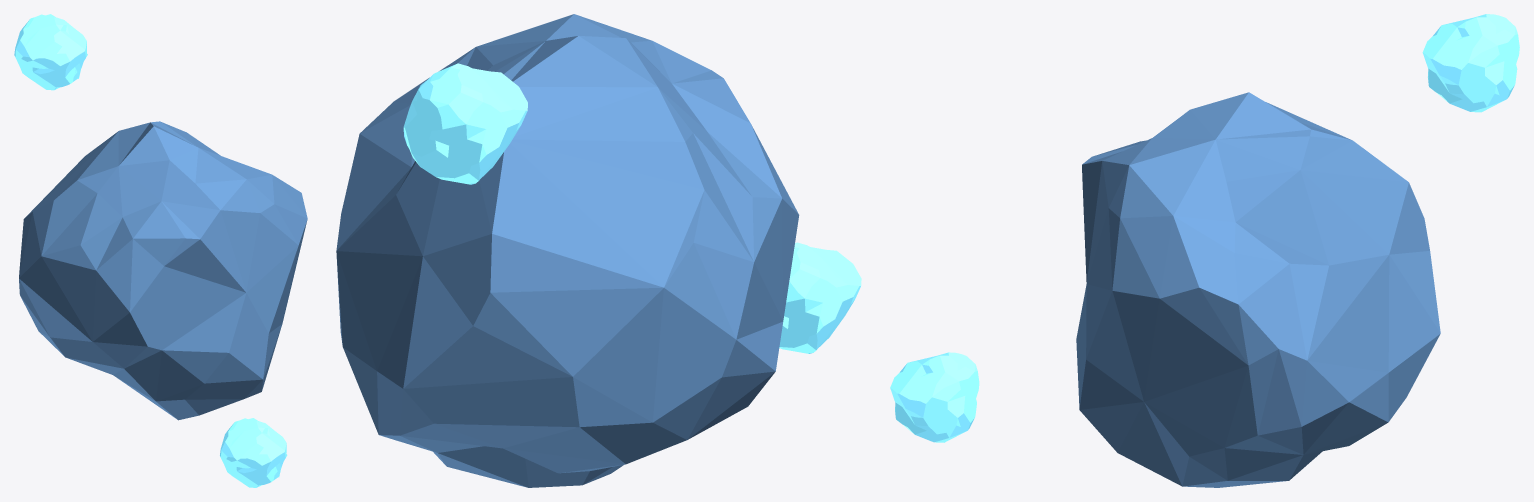
File: planet_2(pivot_for_animation).fbx
The picture shows the model from 3 angles, left to right: view 1: azimuth 30°, elevation 25°; view 2: azimuth 150°, elevation 25°; view 3: azimuth 270°, elevation 25°; orthographic projection. The views are drawn at different scales.
Parts seen in each view (by area): view 1: planet2, planet2_moon_2, planet2_moon_1; view 2: planet2, planet2_moon_2, planet2_moon_1; view 3: planet2, planet2_moon_2, planet2_moon_1.
Part boxes in pixels (left/top/right/bottom): planet2: left=19, top=121, right=307, bottom=420; planet2_moon_2: left=14, top=14, right=87, bottom=90; planet2_moon_1: left=220, top=418, right=287, bottom=487; planet2: left=336, top=14, right=799, bottom=487; planet2_moon_2: left=403, top=63, right=527, bottom=184; planet2_moon_1: left=779, top=242, right=861, bottom=353; planet2: left=1076, top=92, right=1440, bottom=487; planet2_moon_2: left=1422, top=14, right=1519, bottom=112; planet2_moon_1: left=890, top=352, right=979, bottom=442.
Bounding box in the file's own units: 291 × 370 × 480.
